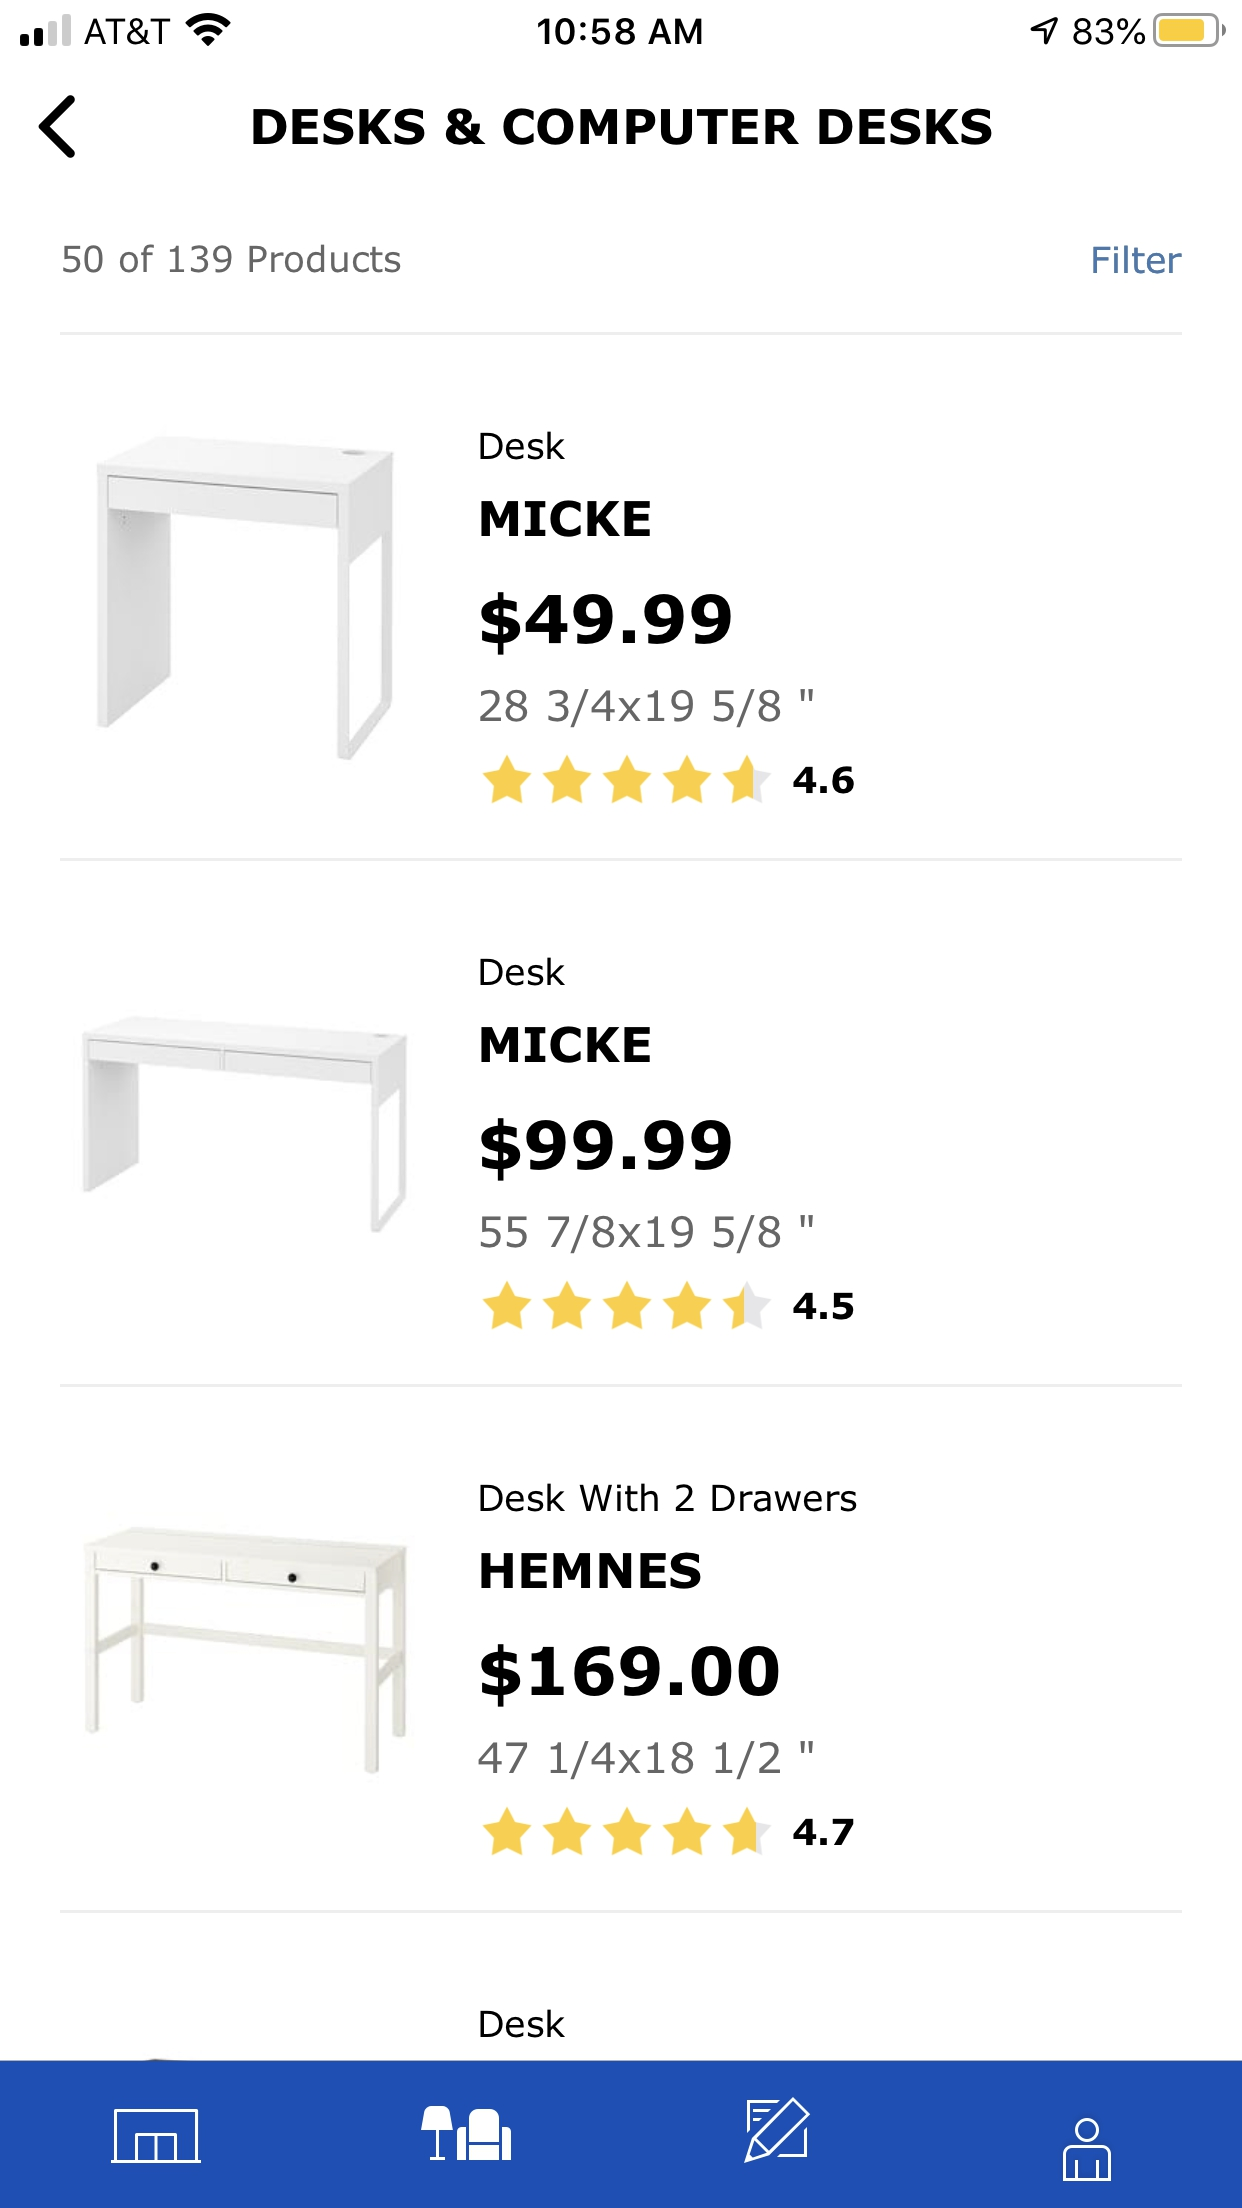Icon: (482, 1280, 773, 1330), (482, 1806, 773, 1856), (482, 755, 772, 805), (743, 2096, 811, 2164), (1062, 2117, 1112, 2182), (39, 96, 77, 161)
Image: (96, 435, 394, 761), (83, 1526, 409, 1774), (80, 1015, 409, 1234), (422, 2105, 513, 2161), (111, 2108, 202, 2164)
Text: (253, 109, 992, 147), (481, 1644, 779, 1708), (481, 591, 732, 657), (481, 1118, 732, 1181), (478, 1739, 814, 1780), (481, 1215, 814, 1256), (481, 688, 814, 729), (479, 1485, 857, 1513), (64, 244, 402, 274), (481, 1551, 702, 1589), (481, 1027, 651, 1065), (481, 500, 651, 538), (1092, 246, 1183, 276), (479, 2009, 566, 2040), (481, 957, 566, 987), (481, 432, 566, 461), (793, 1292, 855, 1321), (793, 766, 855, 795), (793, 1818, 855, 1846)
UpperTaskBar: (2, 2, 1242, 49)
